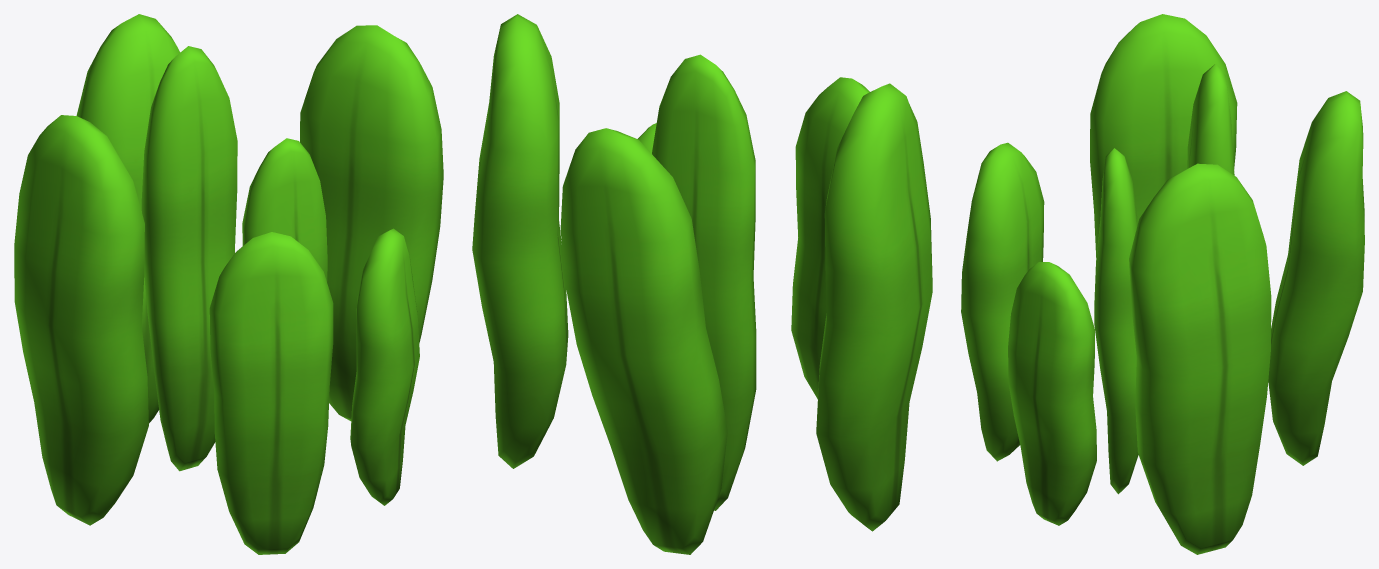
The picture shows the model from 3 angles, left to right: view 1: azimuth 30°, elevation 25°; view 2: azimuth 150°, elevation 25°; view 3: azimuth 270°, elevation 25°; orthographic projection. The views are drawn at different scales.
Parts seen in each view (by area): view 1: Box034, Box039, Box036, Box038, Box040, Box035, Box037; view 2: Box035, Box034, Box036, Box038, Box039; view 3: Box036, Box035, Box040, Box034, Box039, Box037, Box038.
Part boxes in pixels (x1,y1,x2,y2): Box034: [14, 115, 148, 525]; Box039: [209, 232, 333, 554]; Box036: [300, 25, 443, 420]; Box038: [141, 46, 237, 471]; Box040: [350, 228, 419, 505]; Box035: [76, 14, 179, 423]; Box037: [242, 138, 327, 281]; Box035: [560, 128, 727, 554]; Box034: [816, 83, 932, 531]; Box036: [472, 14, 568, 468]; Box038: [652, 54, 756, 510]; Box039: [791, 77, 869, 399]; Box036: [1129, 163, 1271, 554]; Box035: [1268, 91, 1364, 465]; Box040: [1008, 262, 1096, 525]; Box034: [1090, 14, 1237, 257]; Box039: [961, 142, 1044, 461]; Box037: [1094, 148, 1138, 494]; Box038: [1187, 64, 1234, 175].
Size of the model in its own units: 104 by 93.53 by 104.
Materials: 1 (1 with a texture image).
